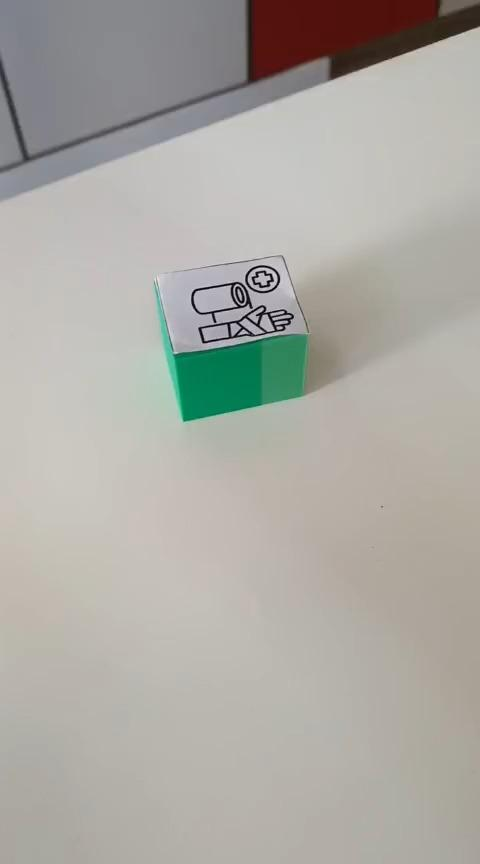Bandages: (152, 253, 310, 422)
